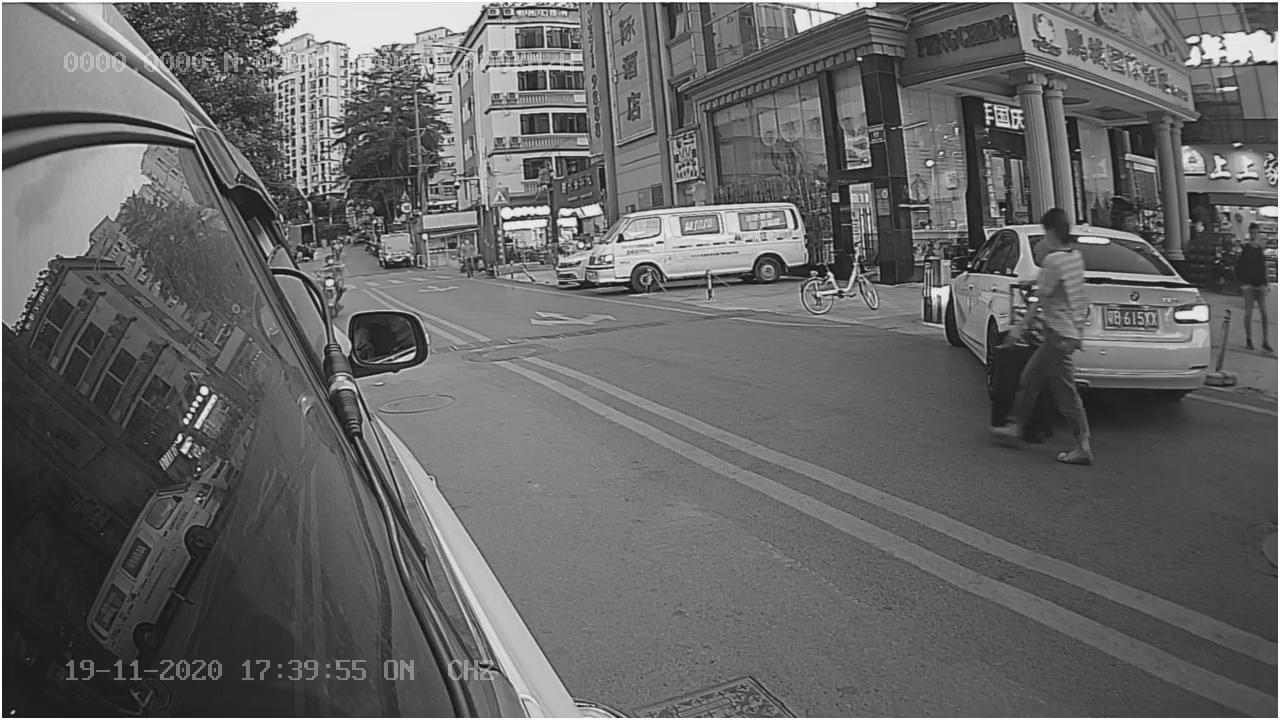person: (999, 217, 1102, 463)
